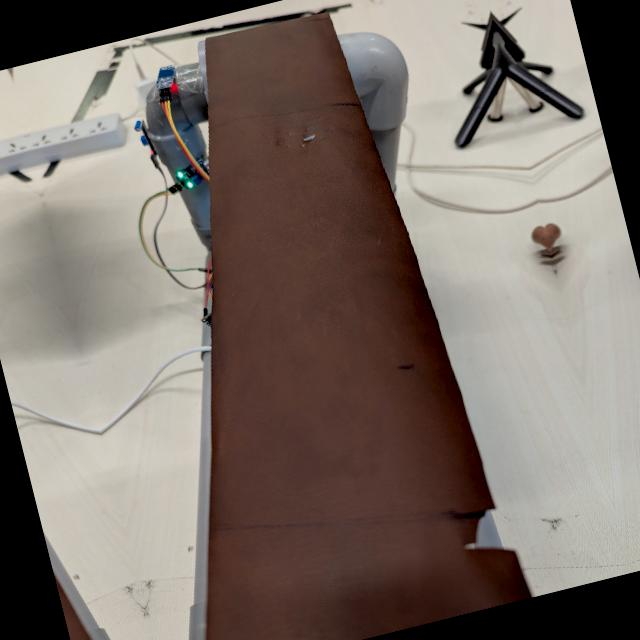belt_crack: (244, 110, 341, 161)
edge_damage: (445, 483, 520, 567)
